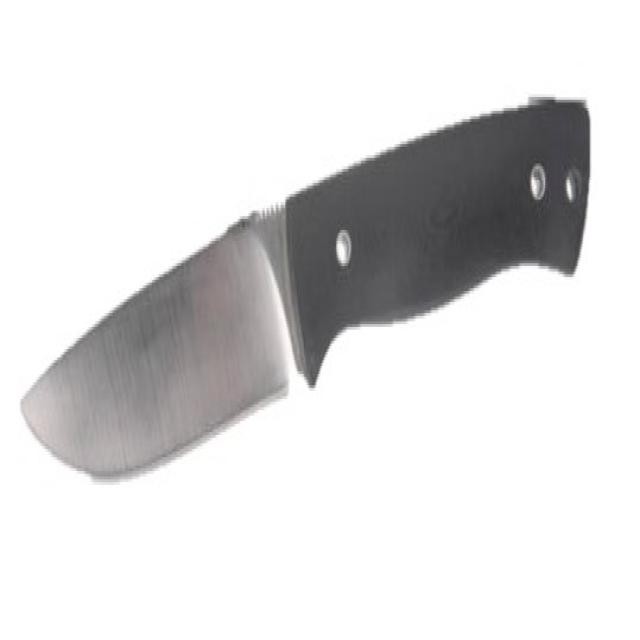knife: (17, 89, 595, 545)
